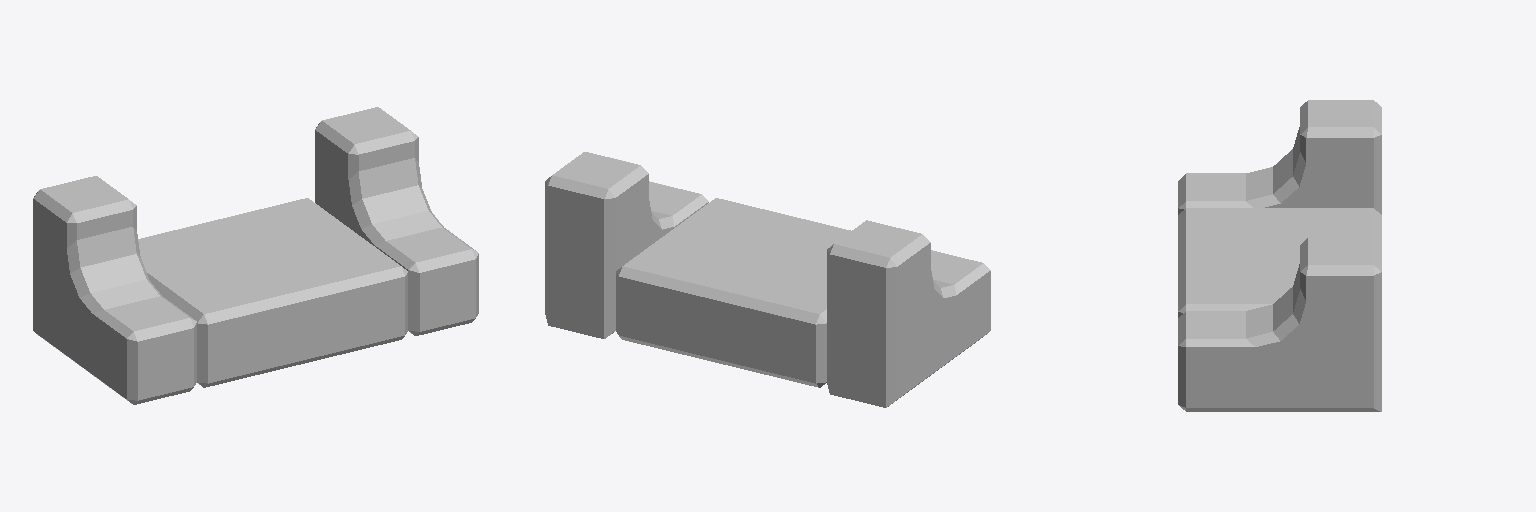
File: shelf_B_small.obj
3 views of the same model, side by side, from view 1: azimuth 30°, elevation 25°; view 2: azimuth 150°, elevation 25°; view 3: azimuth 270°, elevation 25° (orthographic).
Visible parts, largest first — view 1: shelf_B_small_Cube.027; view 2: shelf_B_small_Cube.027; view 3: shelf_B_small_Cube.027.
Boxes of the visible parts, <box> form: shelf_B_small_Cube.027: <box>33,107,478,404</box>; shelf_B_small_Cube.027: <box>545,152,990,407</box>; shelf_B_small_Cube.027: <box>1178,100,1381,411</box>.
Size of the model in its own units: 1 by 0.4 by 0.5.